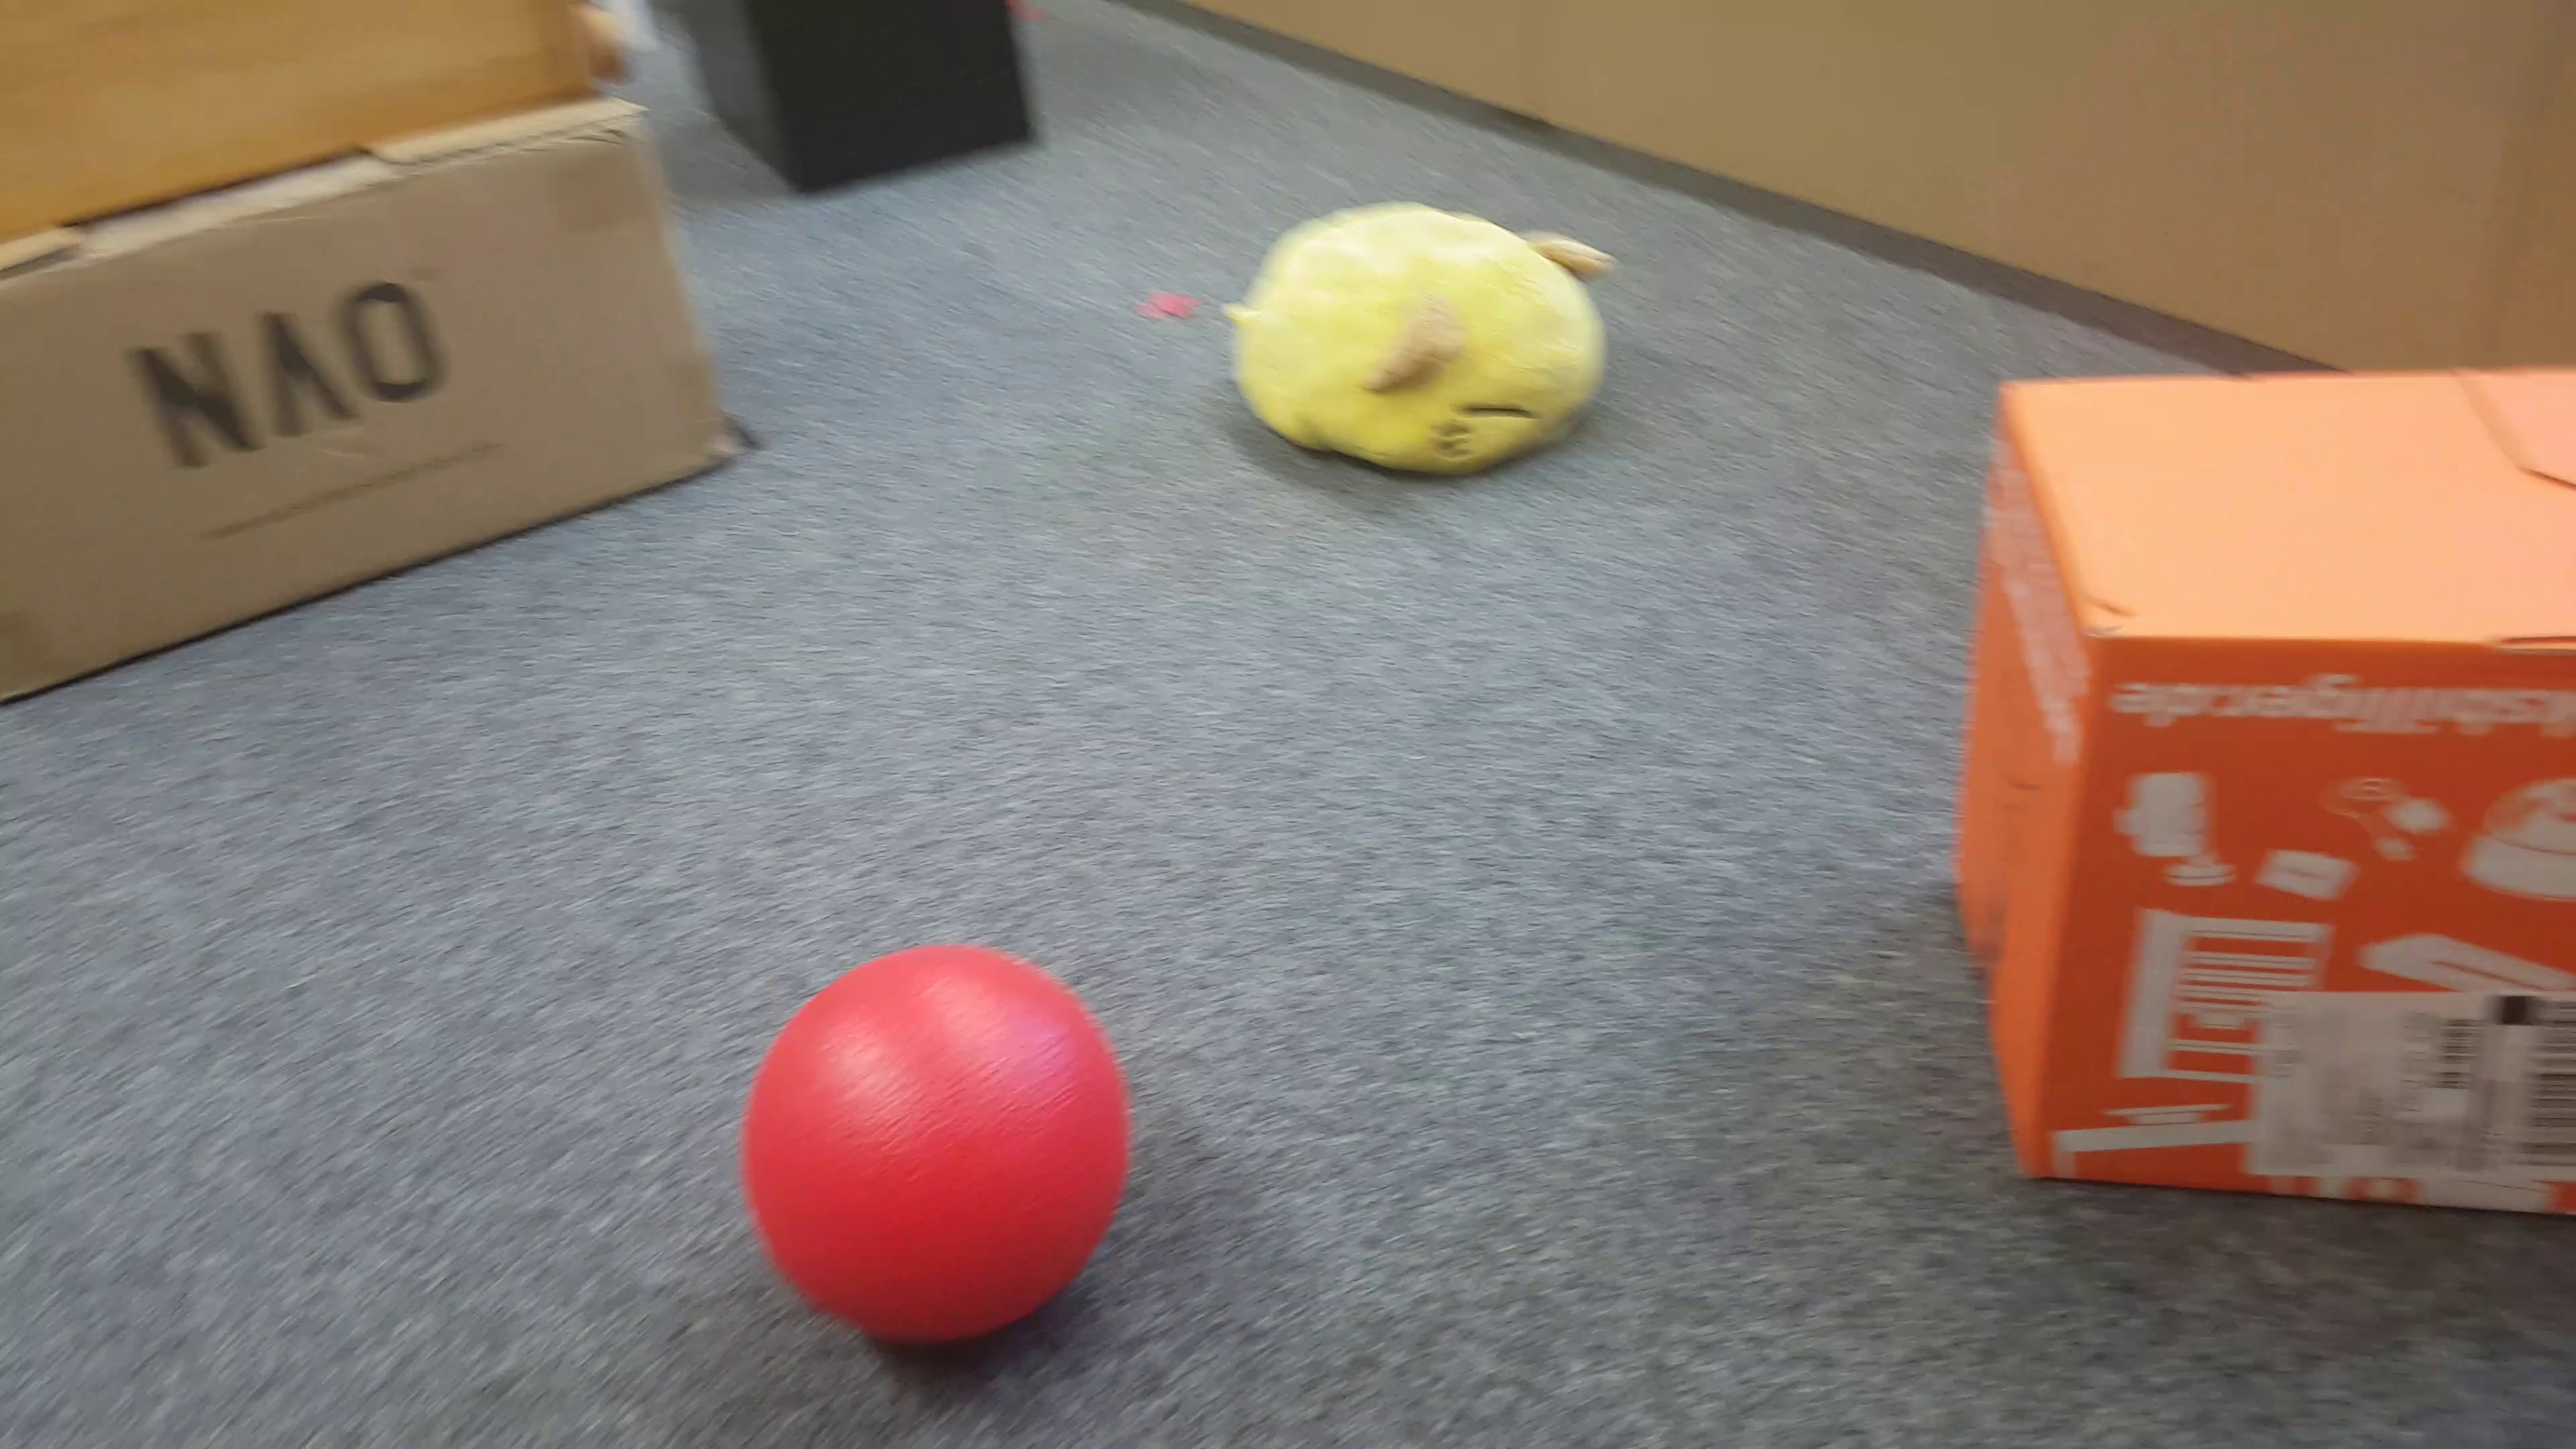grasp: (1223, 200, 1612, 487)
kick: (743, 943, 1136, 1352)
push: (1941, 361, 2576, 1221), (667, 2, 1046, 202)
